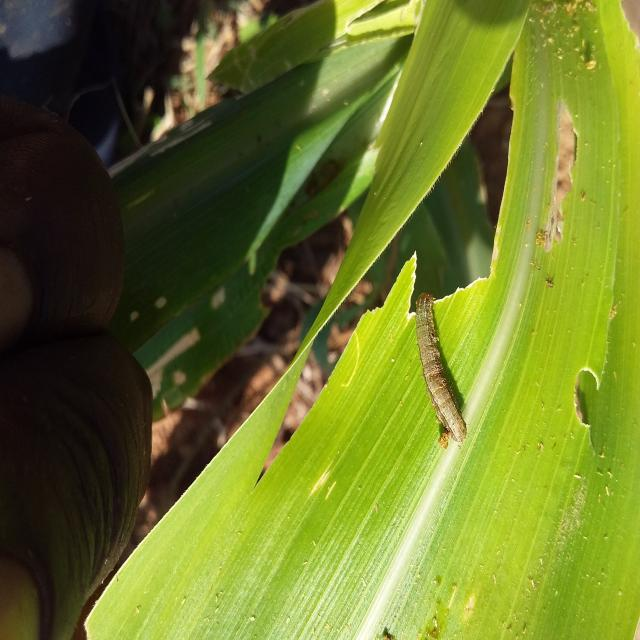yellow-stem-borer-larva: (398, 281, 512, 459)
